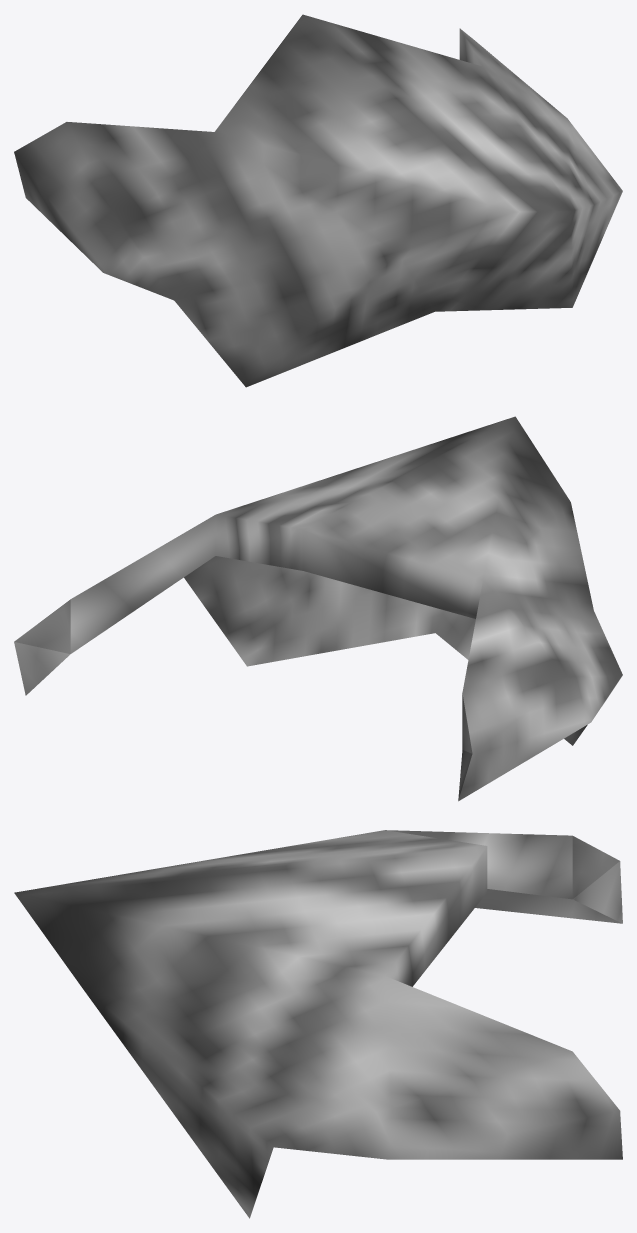
File: FakeBeard_Bob_Beard_PointyChin.fbx
3 renders of one model, top to bottom at view 1: azimuth 30°, elevation 25°; view 2: azimuth 150°, elevation 25°; view 3: azimuth 270°, elevation 25°, orthographic. The views are drawn at different scales.
Parts seen in each view (by area): view 1: BoxOfJars003; view 2: BoxOfJars003; view 3: BoxOfJars003.
Part boxes in pixels (x1=…): BoxOfJars003: x1=14, y1=14, x2=622, y2=387; BoxOfJars003: x1=14, y1=416, x2=622, y2=801; BoxOfJars003: x1=14, y1=830, x2=622, y2=1218.
Bounding box in the file's own units: 4.18 × 2.12 × 4.12.
